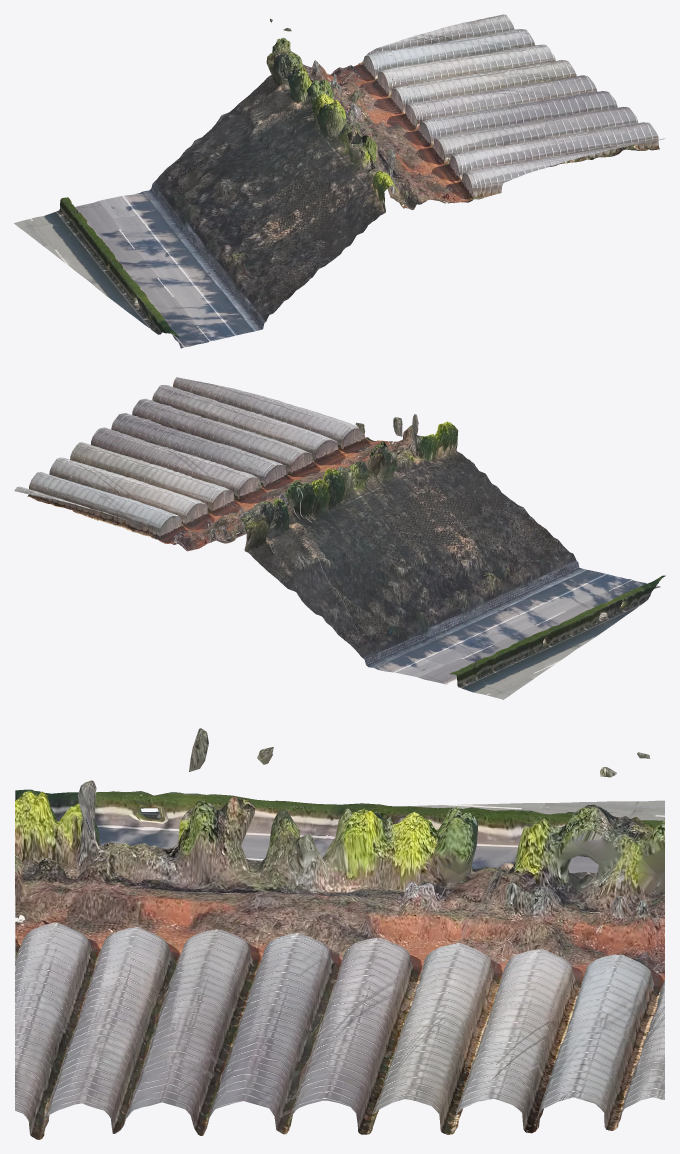
File: BlockBB_L20_148.glb
3 views of the same model, one above another, from view 1: azimuth 30°, elevation 25°; view 2: azimuth 150°, elevation 25°; view 3: azimuth 270°, elevation 25° (orthographic). The views are drawn at different scales.
Visible parts, largest first — view 1: rtc; view 2: rtc; view 3: rtc.
Part boxes in pixels (box(x1,y1,x2,y2)): rtc: box(14, 14, 665, 348); rtc: box(14, 377, 665, 699); rtc: box(15, 728, 664, 1139).
Bounding box in the file's own units: 74.5 × 22.81 × 42.83.
9 materials, 9 textured.
